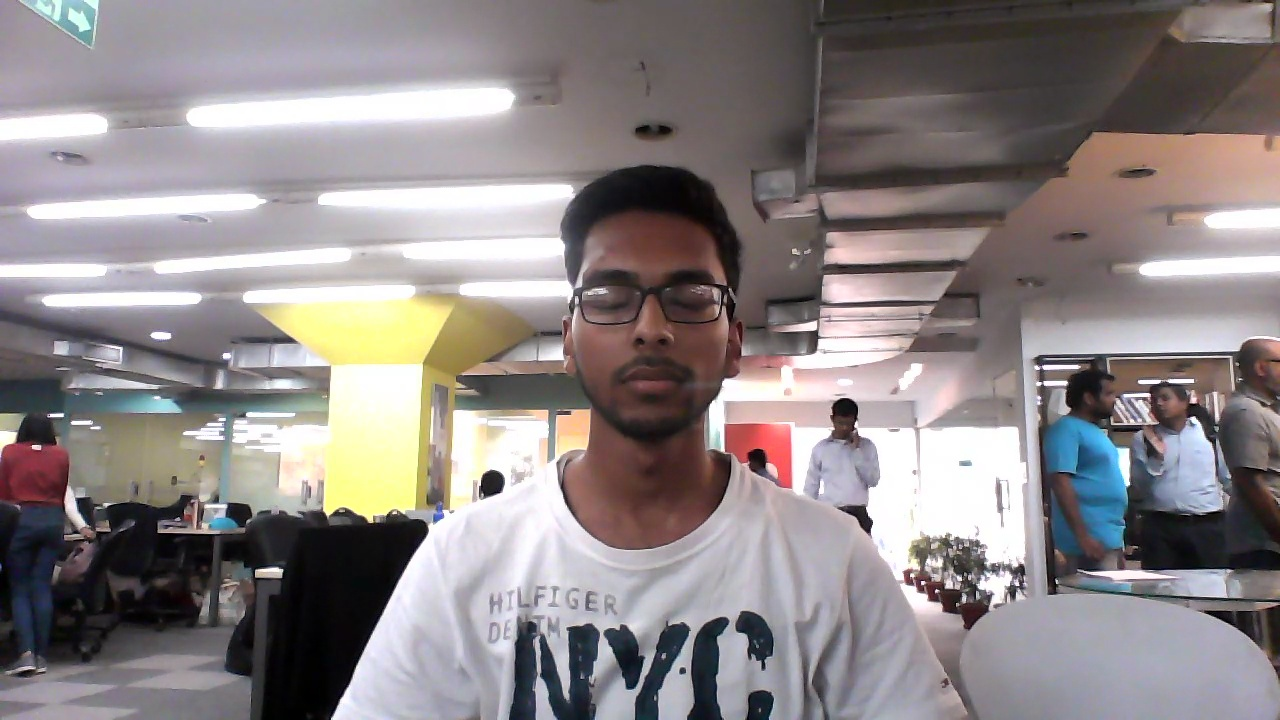closed: (558, 164, 749, 456)
